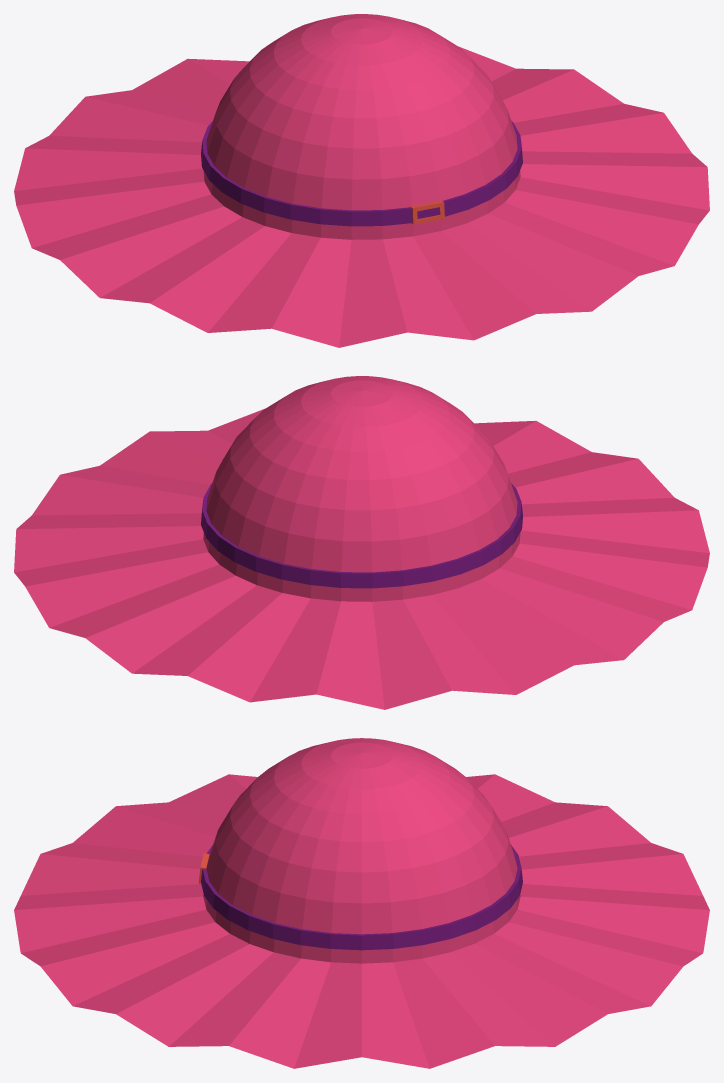
File: luckyhat.fbx
3 renders of one model, top to bottom at view 1: azimuth 30°, elevation 25°; view 2: azimuth 150°, elevation 25°; view 3: azimuth 270°, elevation 25°, orthographic.
Parts seen in each view (by area): view 1: Old Lady Hat; view 2: Old Lady Hat; view 3: Old Lady Hat.
Boxes of the visible parts, left/top/right/bottom form: Old Lady Hat: left=14, top=14, right=709, bottom=347; Old Lady Hat: left=14, top=376, right=709, bottom=709; Old Lady Hat: left=14, top=738, right=709, bottom=1068.
Size of the model in its own units: 439 by 120 by 439.
